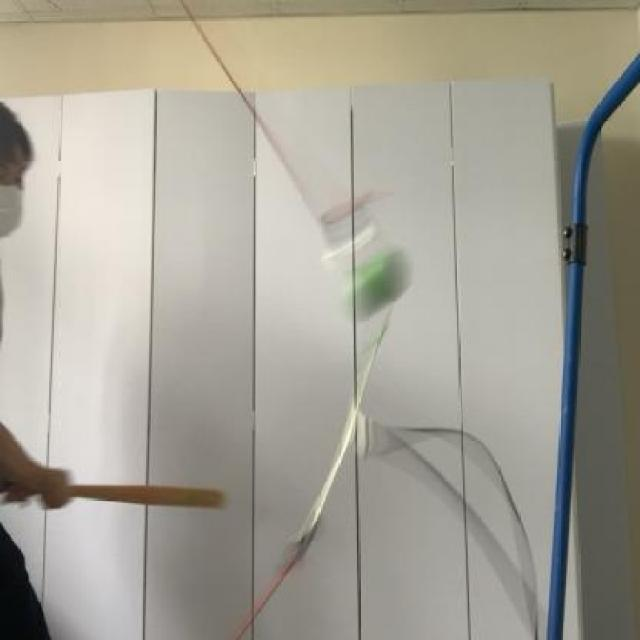baseball: (336, 242, 415, 322)
